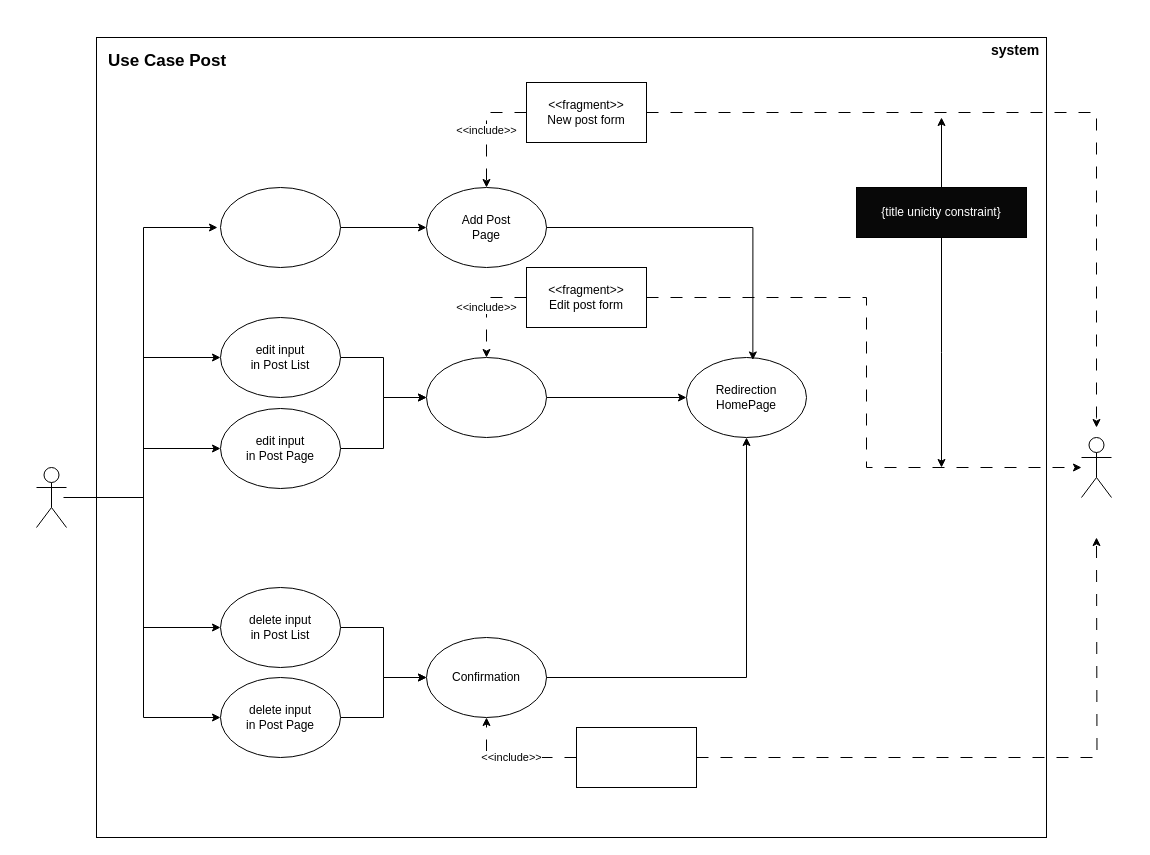
The diagram is 1150 pixels wide and 855 high, and some of its shapes have lost their labels. Here are the shapes that lost their labels. From the top down, the centre of each, then its label:
pixel 280 227: add input in Navigation
pixel 486 397: Edit Post Page
pixel 1096 467: <<systeme>> Database
pixel 51 497: Logged User
pixel 636 757: <<fragment>> delete post form
